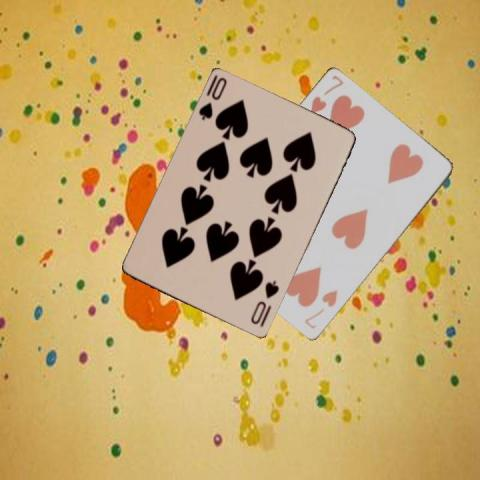10s: (247, 278, 281, 327), (195, 75, 229, 122)
7h: (302, 286, 340, 330), (307, 73, 345, 115)
